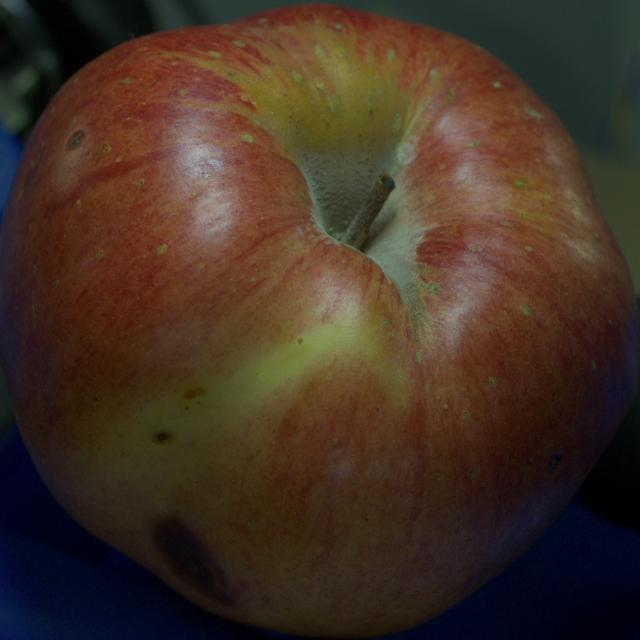apple: (0, 6, 638, 637)
pest: (549, 452, 563, 470), (70, 133, 82, 148), (154, 432, 170, 442)
rotten: (154, 518, 231, 604)
